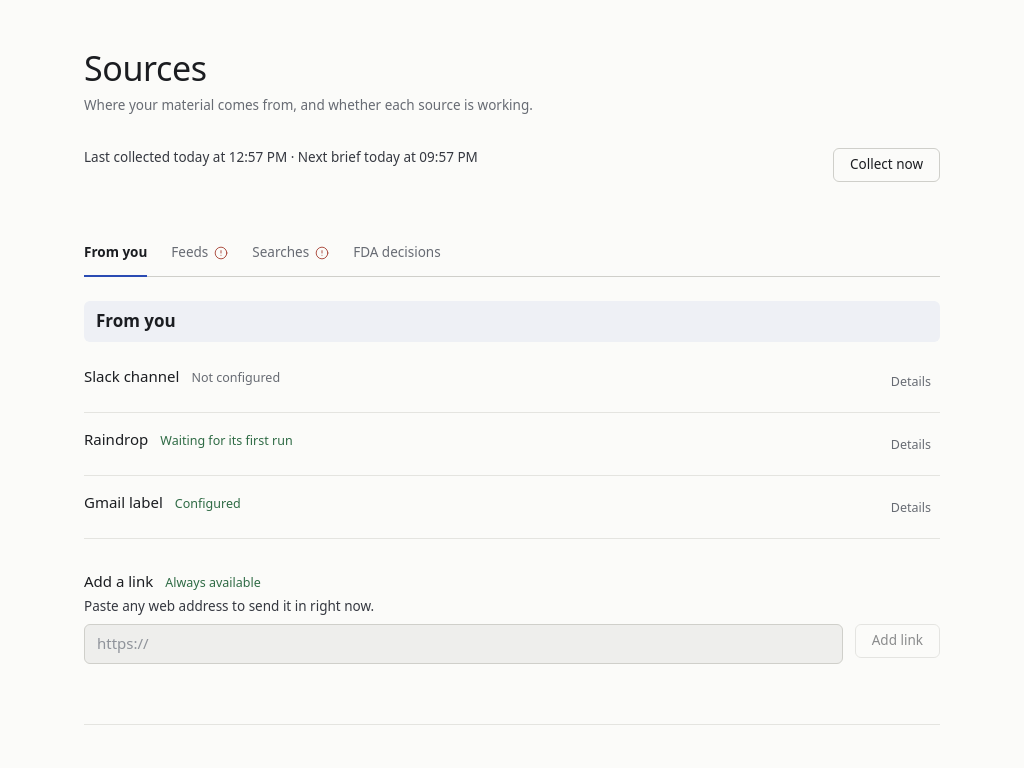
Test case: SourcesPage › gives each source its name and state, and keeps the explanation behind Details
Expected: the text "Not configured" is shown, [191,369,280,387]
Expected: the text "Configured" is shown, [175,495,241,513]
Click the button "Details" in the row of "Slack channel" at (911, 382), box [882,368,940,396]
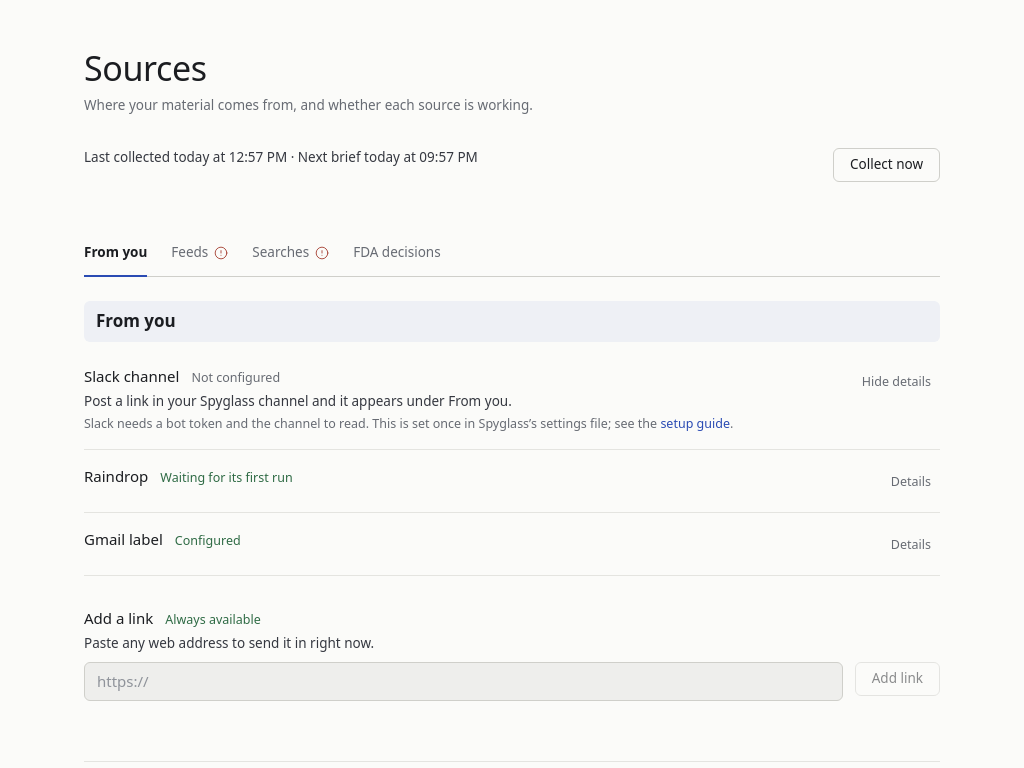
Result: the text "Post a link in your Spyglass channel" is shown at [84,392,512,410]
Result: the text "Slack needs a bot token" is shown at [84,415,369,432]
Result: the text "set once in Spyglass.s settings file" is shown at [369,415,660,432]
Click the button "Hide details" at (896, 382), box [853,368,940,396]
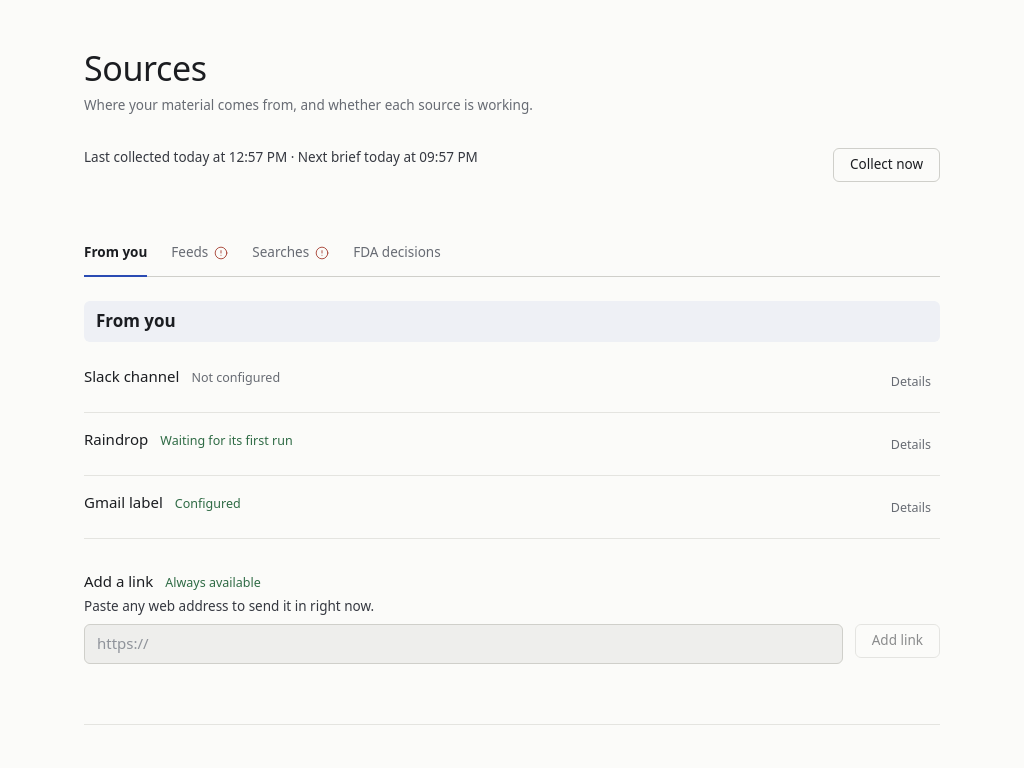
Result: the text "Slack needs a bot token" is gone
